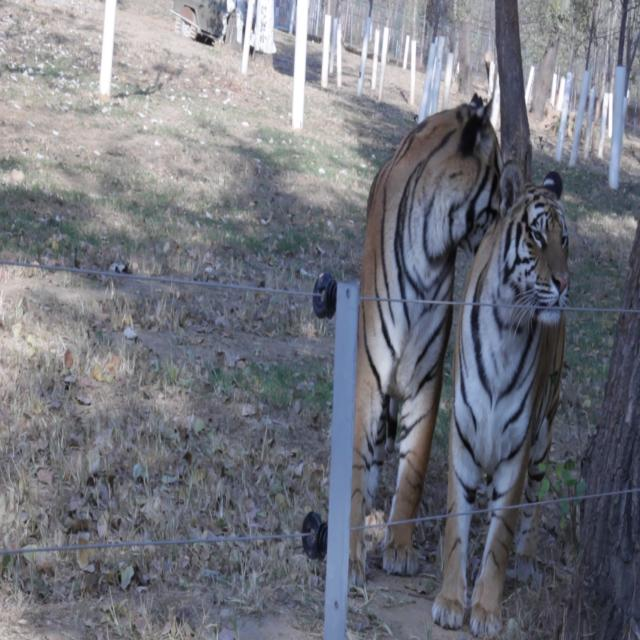Tiger: (339, 75, 481, 606), (426, 158, 572, 640)
